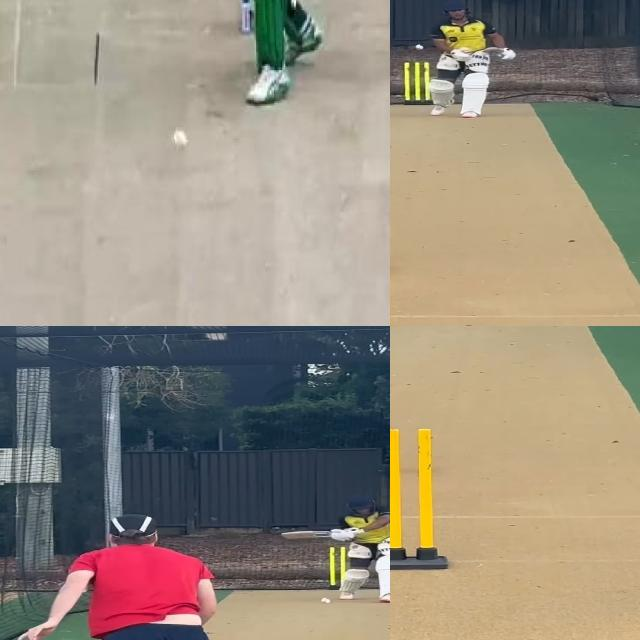Cricket ball: (172, 127, 189, 153), (320, 596, 333, 604), (414, 43, 426, 50)
Stumps: (390, 427, 450, 571), (403, 62, 432, 105), (326, 545, 346, 592)
